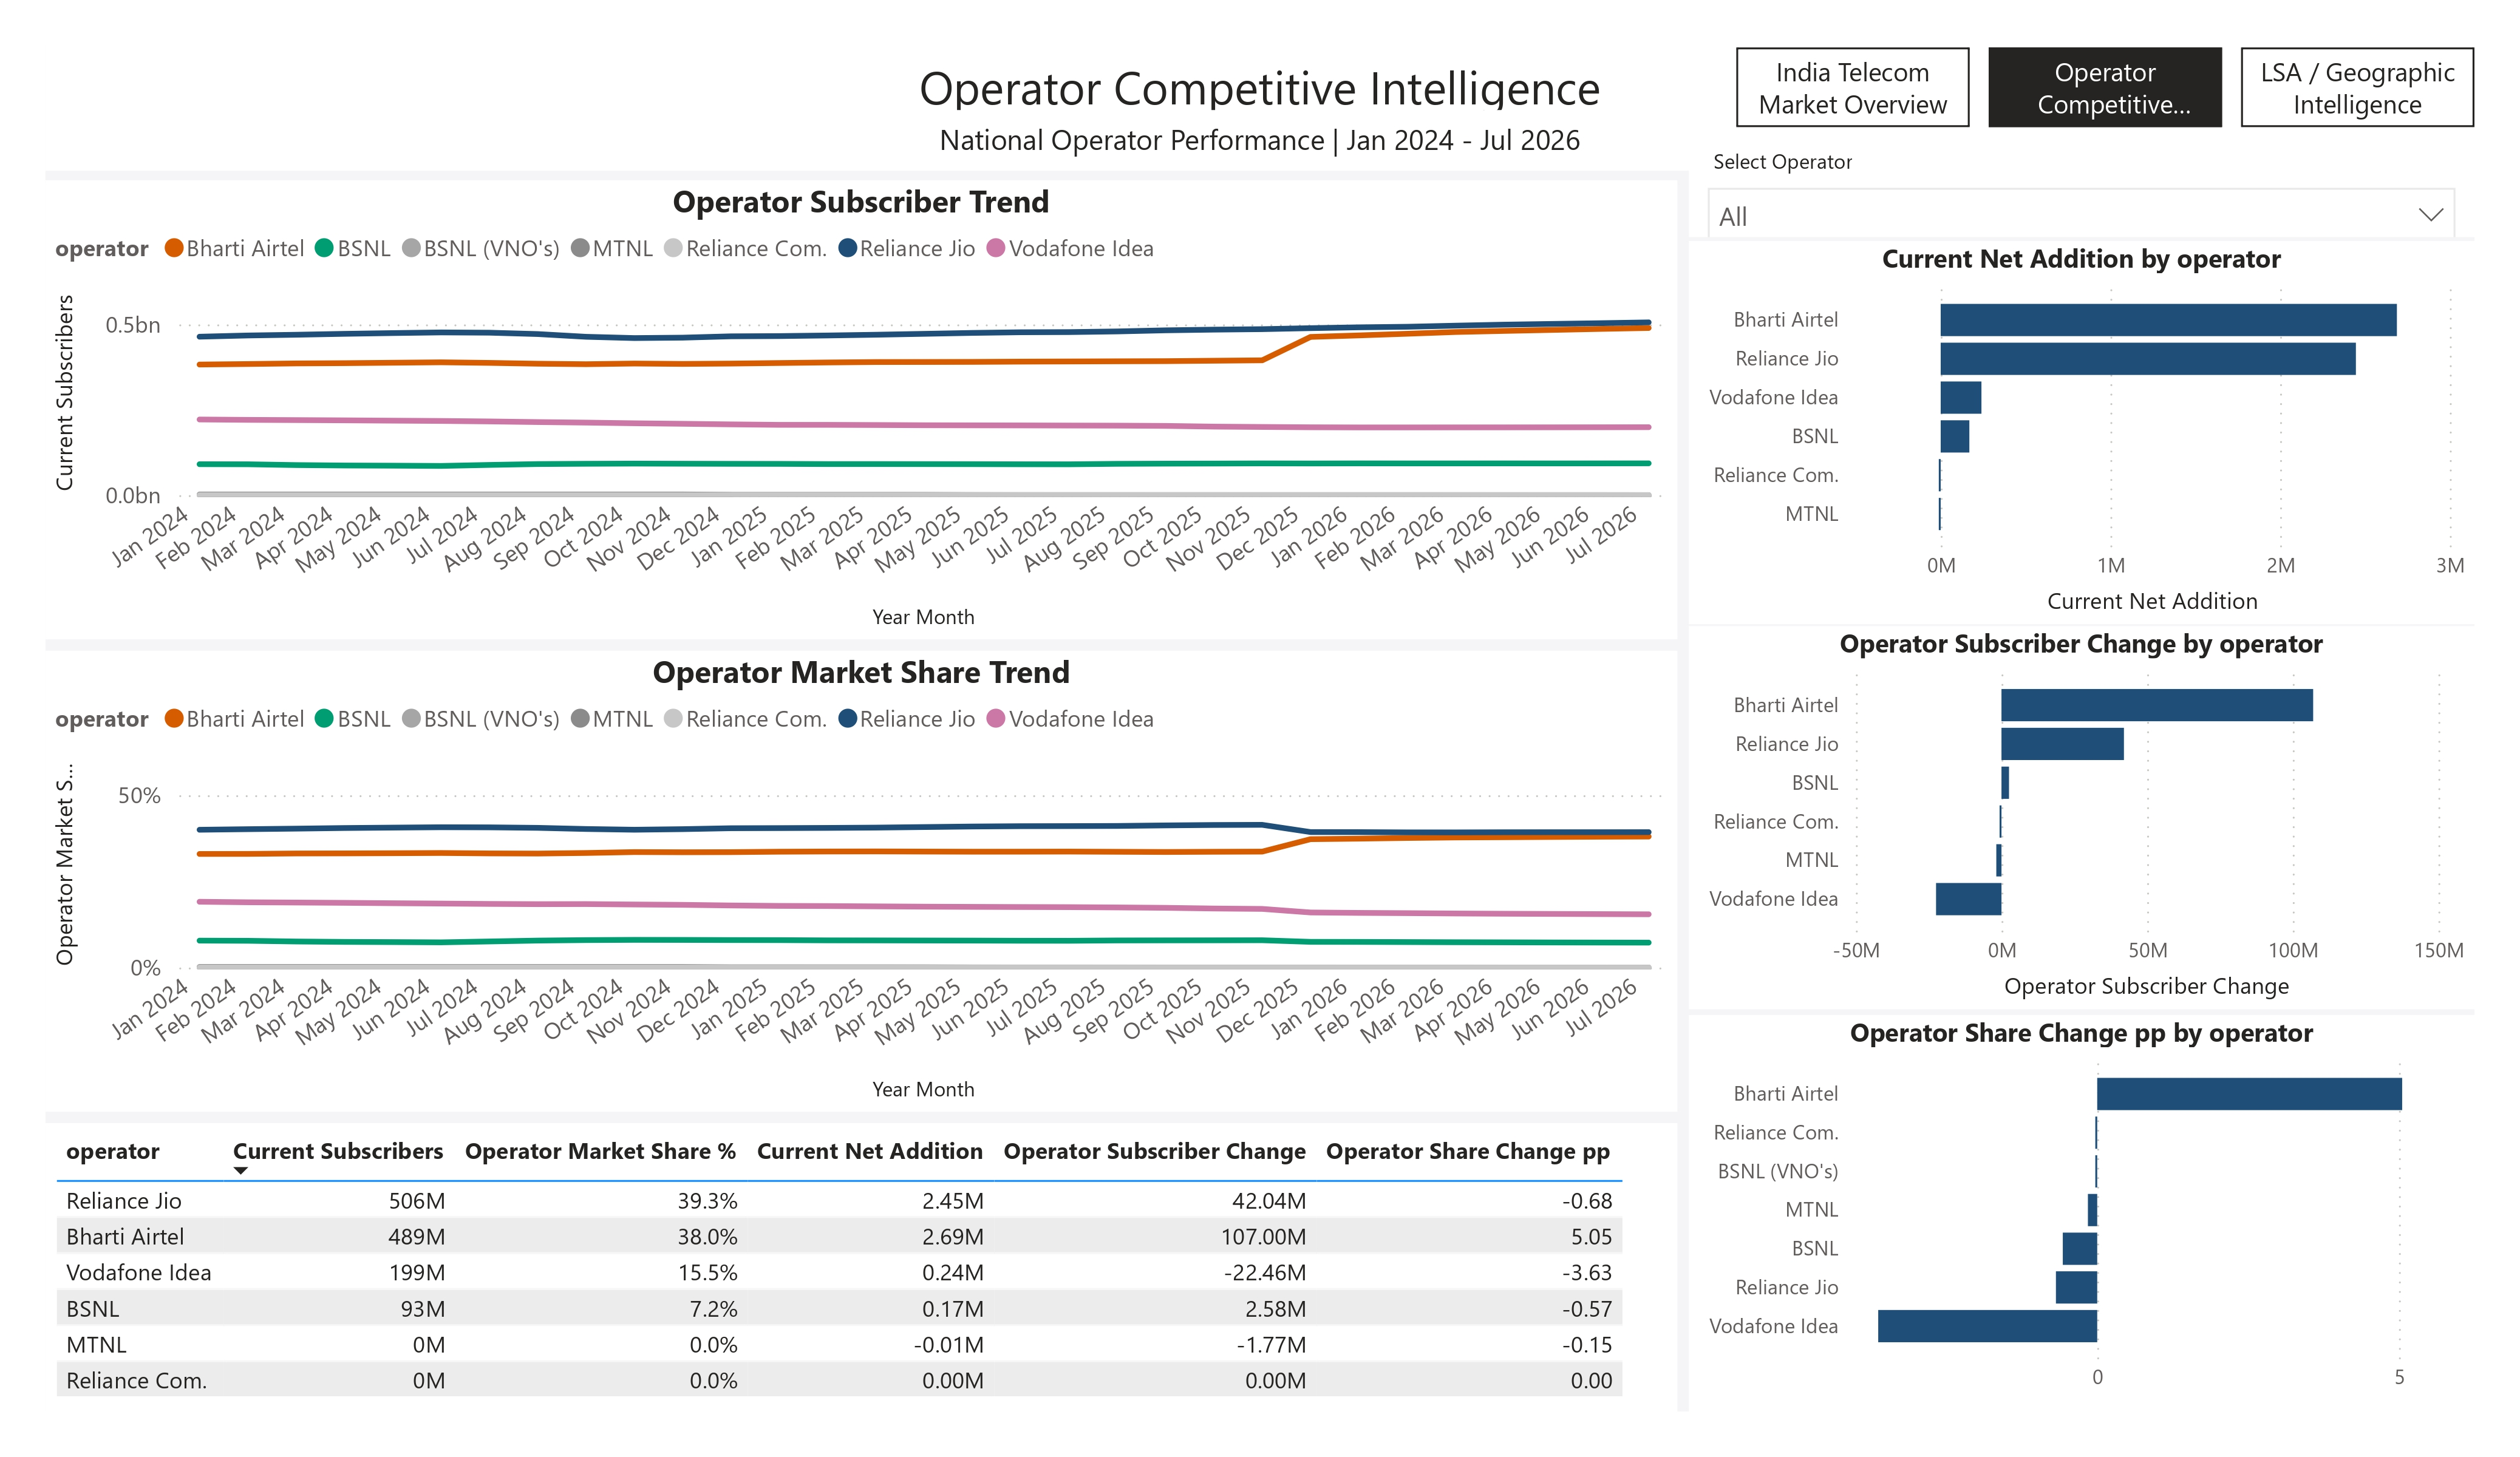

This screenshot's page, from the dashboard's own definition file:
{"tool":"powerbi","page":{"name":"Operator Competitive Intelligence","canvas":[1280,720],"ordinal":1},"visuals":[{"type":"textbox","box":[0,0,1280,42],"z":0},{"type":"textbox","box":[0,34,1280,32],"z":1000},{"type":"lineChart","title":"Operator Subscriber Trend","fields":{"Category":["Dim_Date.Year Month"],"Y":["Fact_Telecom.Current Subscribers"],"Series":["Fact_Telecom.operator"]},"box":[0,71,859.8,242],"z":2000},{"type":"lineChart","title":"Operator Market Share Trend","fields":{"Category":["Dim_Date.Year Month"],"Y":["Fact_Telecom.Operator Market Share %"],"Series":["Fact_Telecom.operator"]},"box":[0,319,859.9,243],"z":3000},{"type":"clusteredBarChart","fields":{"Category":["Fact_Telecom.operator"],"Y":["Fact_Telecom.Current Net Addition"]},"box":[866,102.5,414,202],"z":4000},{"type":"clusteredBarChart","fields":{"Category":["Fact_Telecom.operator"],"Y":["Fact_Telecom.Operator Share Change pp"]},"box":[866,511,414,209],"z":5000},{"type":"clusteredBarChart","fields":{"Category":["Fact_Telecom.operator"],"Y":["Fact_Telecom.Operator Subscriber Change"]},"box":[866,306,414,202],"z":6000},{"type":"tableEx","fields":{"Values":["Fact_Telecom.operator","Fact_Telecom.Current Subscribers","Fact_Telecom.Operator Market Share %","Fact_Telecom.Current Net Addition","Fact_Telecom.Operator Subscriber Change","Fact_Telecom.Operator Share Change pp"]},"box":[0,568.1,859.9,152.2],"z":7000},{"type":"slicer","fields":{"Values":["Fact_Telecom.operator"]},"box":[866,47.9,414,53],"z":8000},{"type":"pageNavigator","box":[890.9,1.4,389.1,42],"z":8001}]}

Visuals, with their boxes on the page's 1280x720 design canvas (x1, y1, x2, y2). These are canvas units, not pixel positions in the 2520x1457 screenshot, which may show the page scaled, cropped or inside an application window:
textbox: BBox(0, 0, 1280, 42)
textbox: BBox(0, 34, 1280, 66)
"Operator Subscriber Trend" lineChart: BBox(0, 71, 860, 313)
"Operator Market Share Trend" lineChart: BBox(0, 319, 860, 562)
clusteredBarChart - Fact_Telecom.operator x Fact_Telecom.Current Net Addition: BBox(866, 102, 1280, 304)
clusteredBarChart - Fact_Telecom.operator x Fact_Telecom.Operator Share Change pp: BBox(866, 511, 1280, 720)
clusteredBarChart - Fact_Telecom.operator x Fact_Telecom.Operator Subscriber Change: BBox(866, 306, 1280, 508)
tableEx - Fact_Telecom.operator x Fact_Telecom.Current Subscribers: BBox(0, 568, 860, 720)
slicer - Fact_Telecom.operator: BBox(866, 48, 1280, 101)
pageNavigator: BBox(891, 1, 1280, 43)
